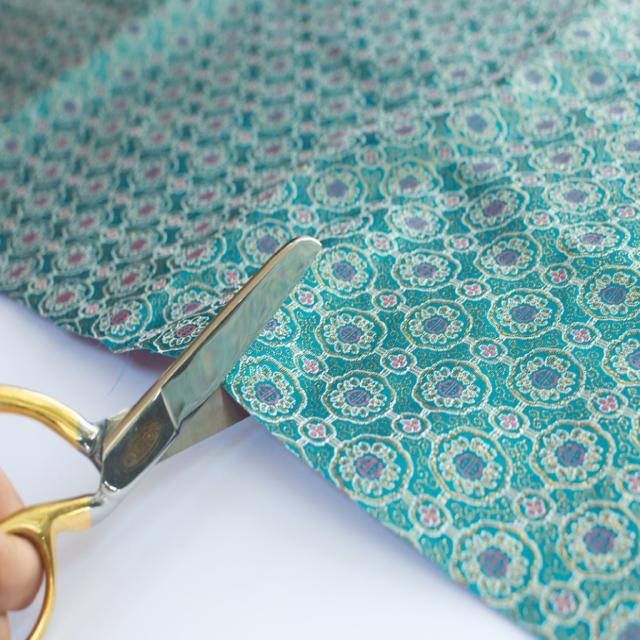scissors: (0, 233, 322, 638)
